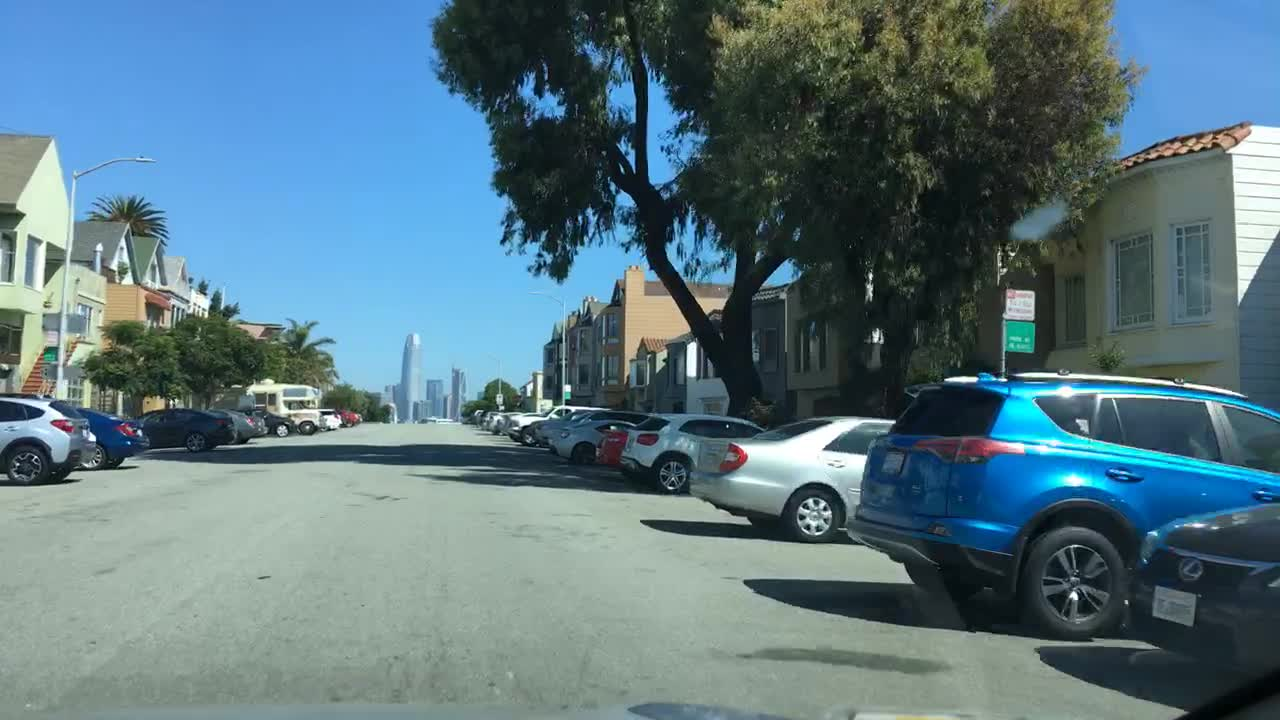car: (846, 369, 1278, 639), (1121, 498, 1276, 686), (689, 414, 902, 542), (617, 410, 775, 494), (3, 390, 130, 467), (546, 408, 671, 466), (518, 409, 656, 445), (127, 409, 233, 451), (508, 405, 607, 438), (204, 403, 254, 444), (229, 405, 268, 444), (489, 408, 541, 435), (250, 407, 297, 435), (317, 407, 346, 430), (335, 407, 363, 425), (479, 411, 506, 429), (472, 408, 484, 423)
traffic sign: (1004, 318, 1035, 353), (1005, 286, 1035, 319), (560, 377, 572, 403), (39, 348, 57, 365), (494, 393, 502, 404)
